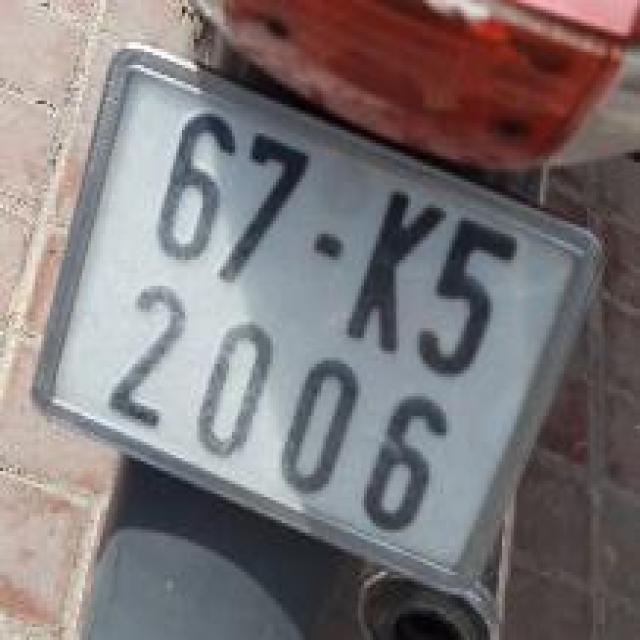0: (266, 341, 377, 507), (183, 309, 287, 473)
2: (93, 274, 211, 442)
5: (405, 209, 529, 399)
6: (142, 101, 250, 278), (348, 381, 467, 538)
7: (201, 128, 322, 303)
K: (336, 175, 457, 363)
